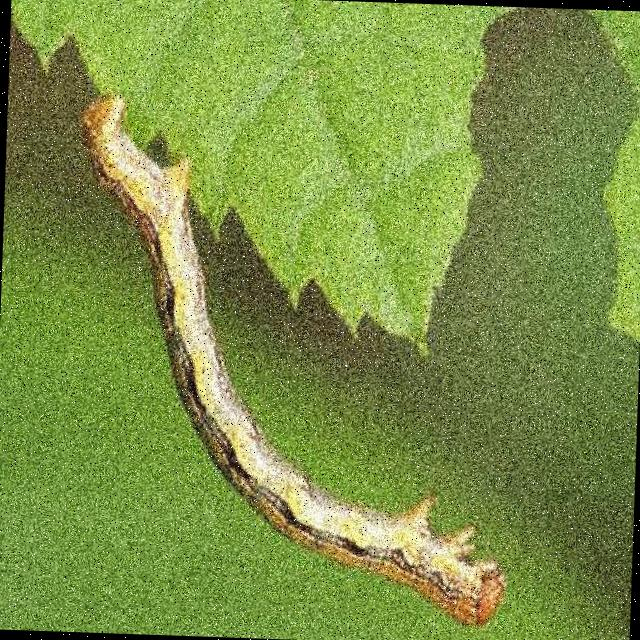worm: (65, 92, 526, 629)
